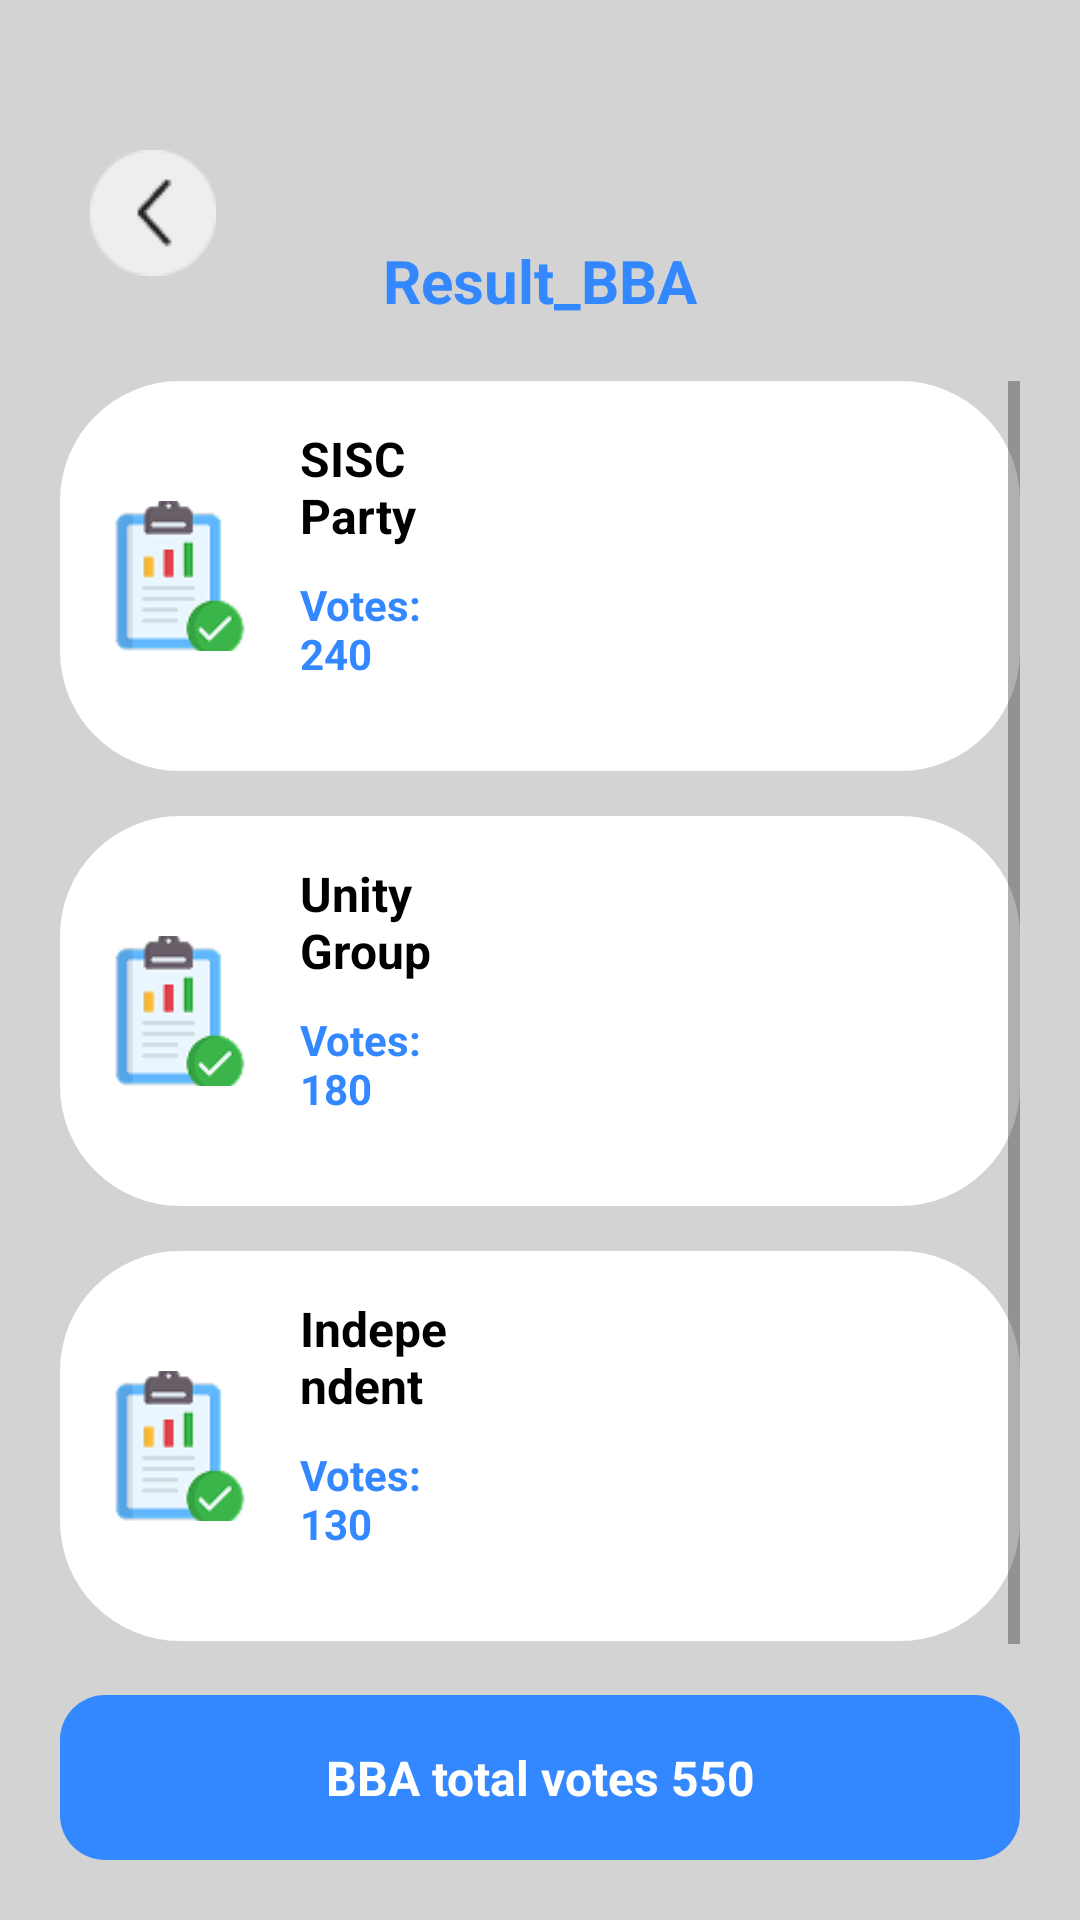

Point at icon controls on the screen. Image size 1080px×1920px, points as (x,y).
arrow back: (153,213)
result: (180,576), (180,1011), (180,1446)
